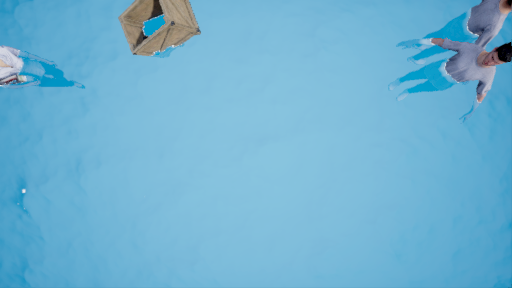person: (393, 37, 512, 123), (1, 42, 86, 102)
